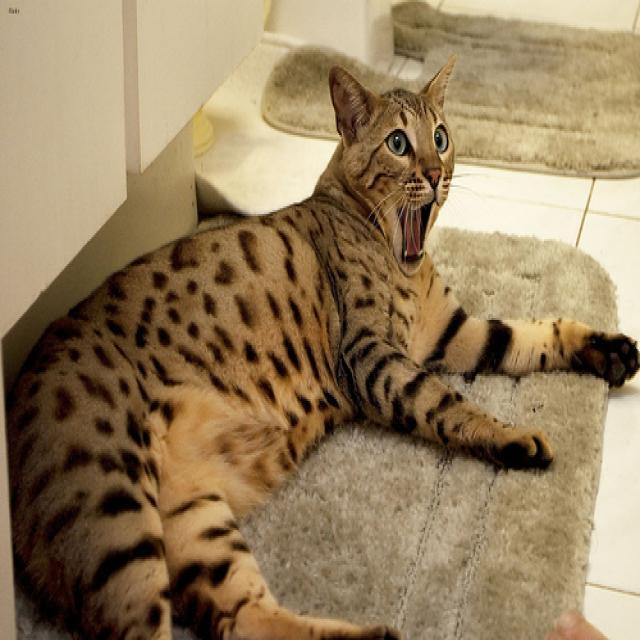Bengal: (326, 50, 456, 276)
